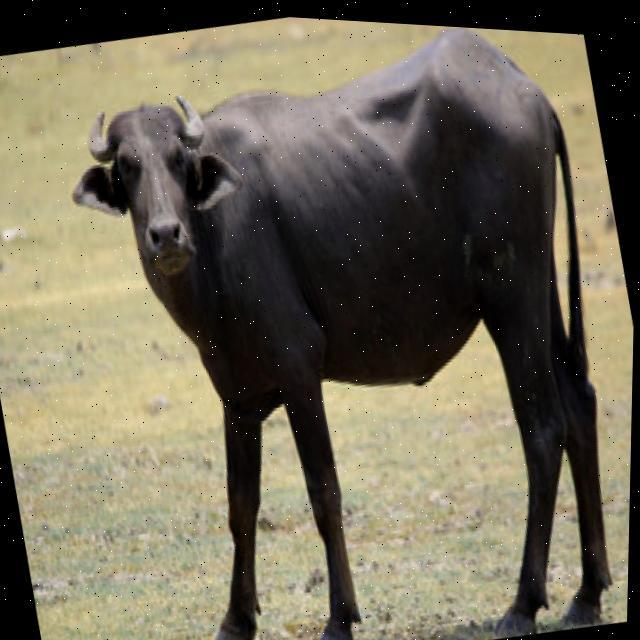Buffalo: (36, 3, 640, 640)
